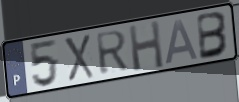5: (27, 37, 61, 89)
A: (164, 18, 201, 66)
B: (196, 10, 231, 62)
H: (126, 18, 166, 73)
R: (94, 28, 131, 77)
X: (61, 32, 96, 83)
